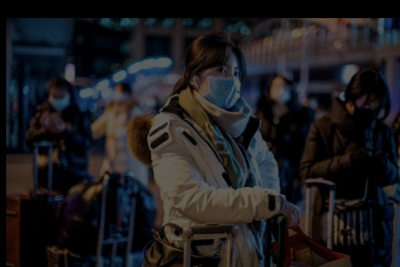with_mask: (202, 61, 242, 109), (350, 98, 383, 124), (269, 80, 293, 103), (47, 91, 71, 113)
